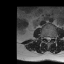CCS_normal: (48, 35, 49, 44)
LFS_stenosis: (51, 35, 53, 40)
LLS_normal: (49, 35, 51, 42)
RFS_stenosis: (43, 34, 45, 40)
RLS_normal: (46, 35, 48, 42)
